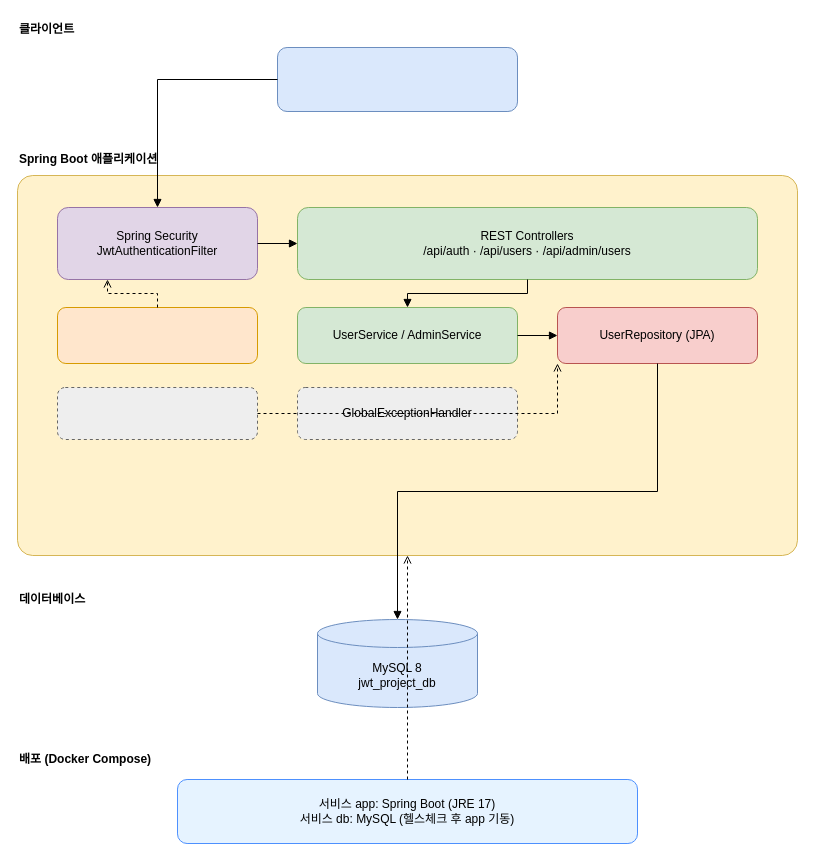
This 815x861 diagram has some shape labels left out. Here are the shapes that lost their labels. From the top down, the box of each, then its label:
(276, 46, 518, 112): HTTP / JSON (Authorization: Bearer JWT)
(56, 306, 258, 364): JwtUtil (jjwt)
(56, 386, 258, 440): DataInitializer (관리자 시드)
